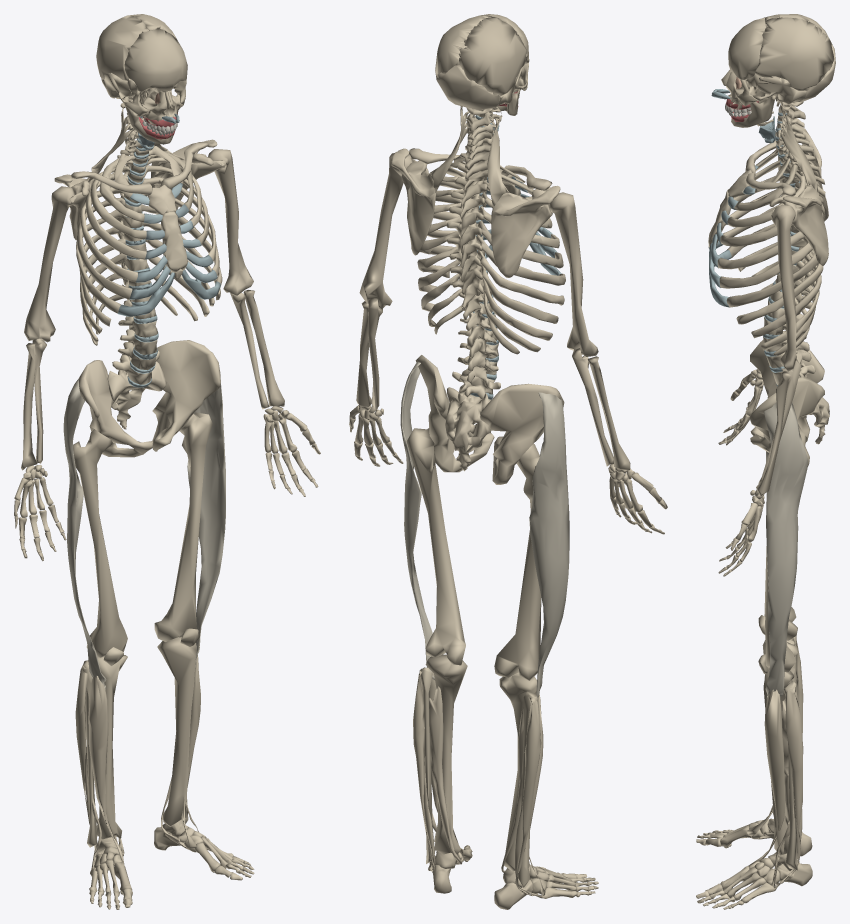
File: m-skeleton.glb
3 views of the same model, side by side, from view 1: azimuth 30°, elevation 25°; view 2: azimuth 150°, elevation 25°; view 3: azimuth 270°, elevation 25° (orthographic). The views are drawn at different scales.
Parts seen in each view (by area): view 1: bone; view 2: bone; view 3: bone.
Boxes of the visible parts, <box> form: bone: <box>14,14,320,909</box>; bone: <box>349,14,667,909</box>; bone: <box>696,14,835,909</box>.
Bounding box in the file's own units: 0.6471 × 1.71 × 0.2538.
